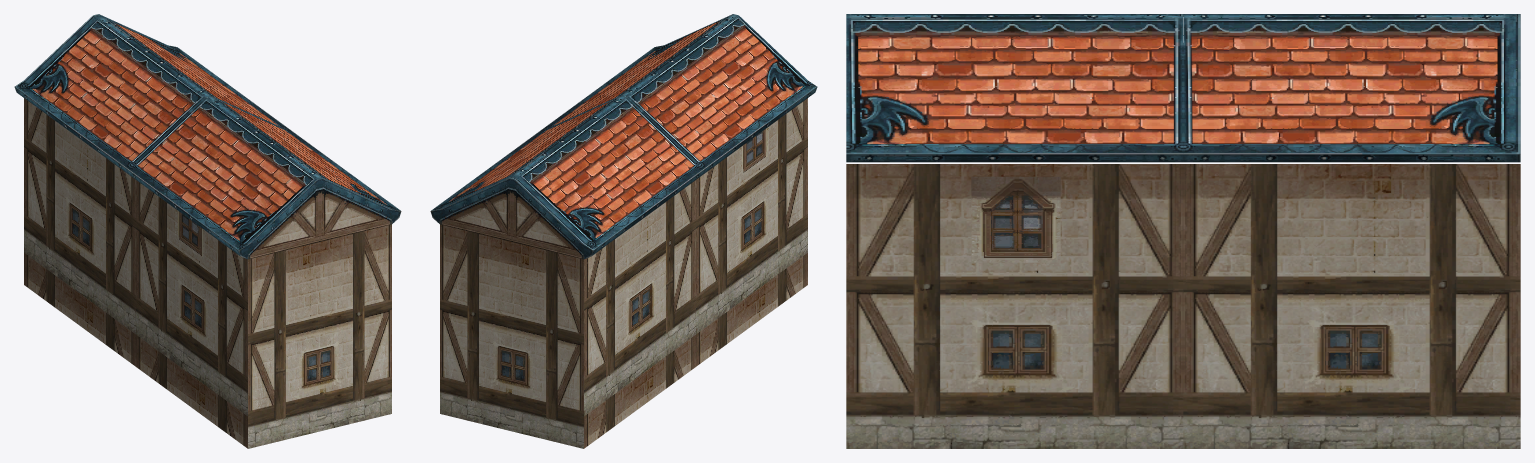
3 renders of one model, left to right at view 1: azimuth 30°, elevation 25°; view 2: azimuth 150°, elevation 25°; view 3: azimuth 270°, elevation 25°, orthographic. The views are drawn at different scales.
Parts seen in each view (by area): view 1: geom_node_1, geom_node_0; view 2: geom_node_0, geom_node_1; view 3: geom_node_0, geom_node_1.
Part boxes in pixels (bbox=[...]): geom_node_1: bbox=[126, 96, 401, 448]; geom_node_0: bbox=[14, 14, 288, 366]; geom_node_0: bbox=[430, 96, 705, 448]; geom_node_1: bbox=[543, 14, 817, 366]; geom_node_0: bbox=[1183, 14, 1520, 448]; geom_node_1: bbox=[846, 14, 1183, 448].
Bounding box in the file's own units: 4.29 × 6.36 × 10.22.
7 materials, 7 textured.
